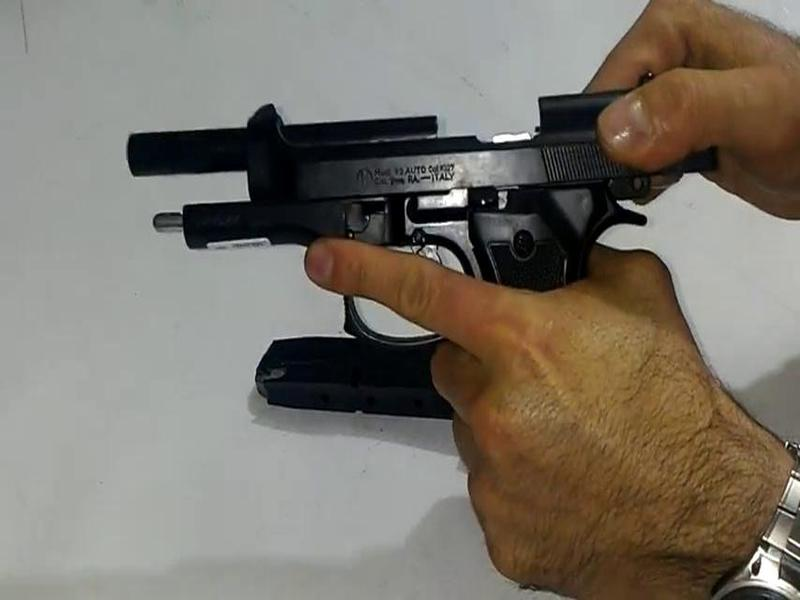Pistola: (126, 52, 709, 438)
